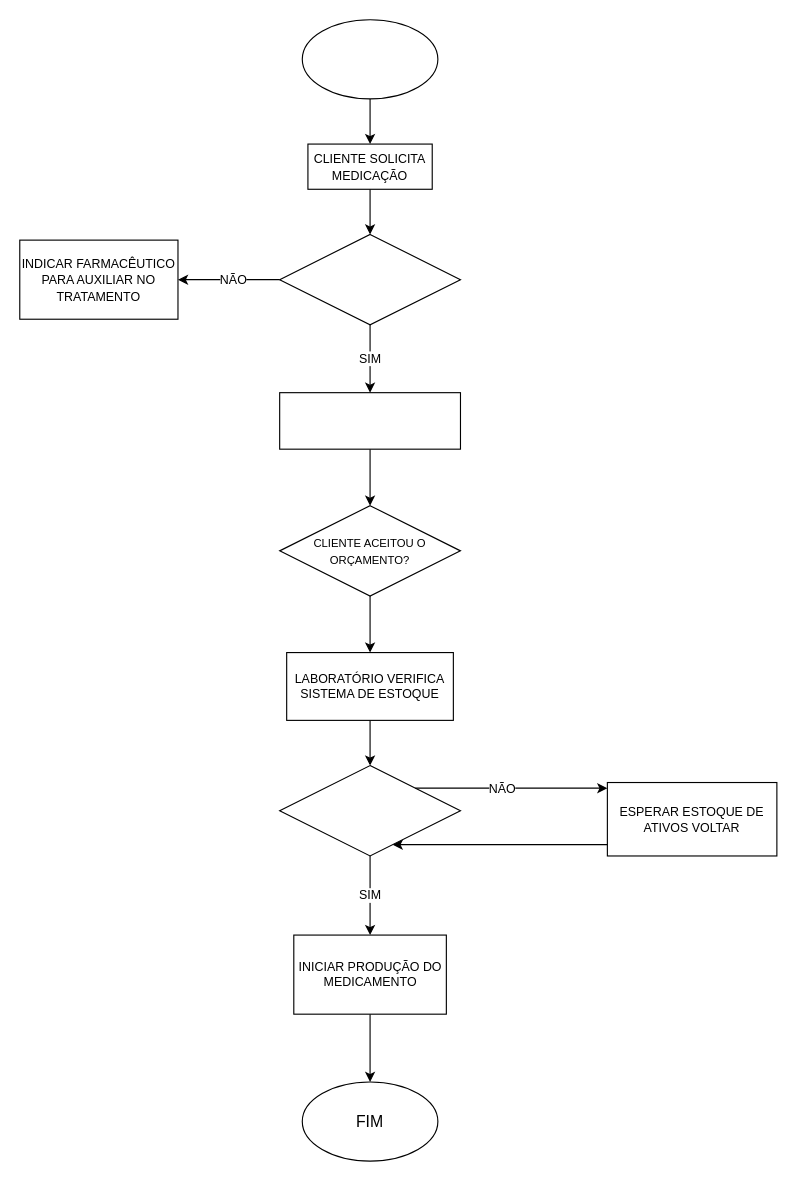
Some shapes in this 797 by 1181 pixel diagram are drawn without their labels. The centre of each missing label's shape, as x and y in pixels:
CLIENTE TEM A RECEITA?: pixel 369 279
FAZER ORÇAMENTO DE ACORDO COM SISTEMA: pixel 369 420
INÍCIO: pixel 369 59
OS ATIVOS ESTÃO DISPONÍVEIS?: pixel 369 810
